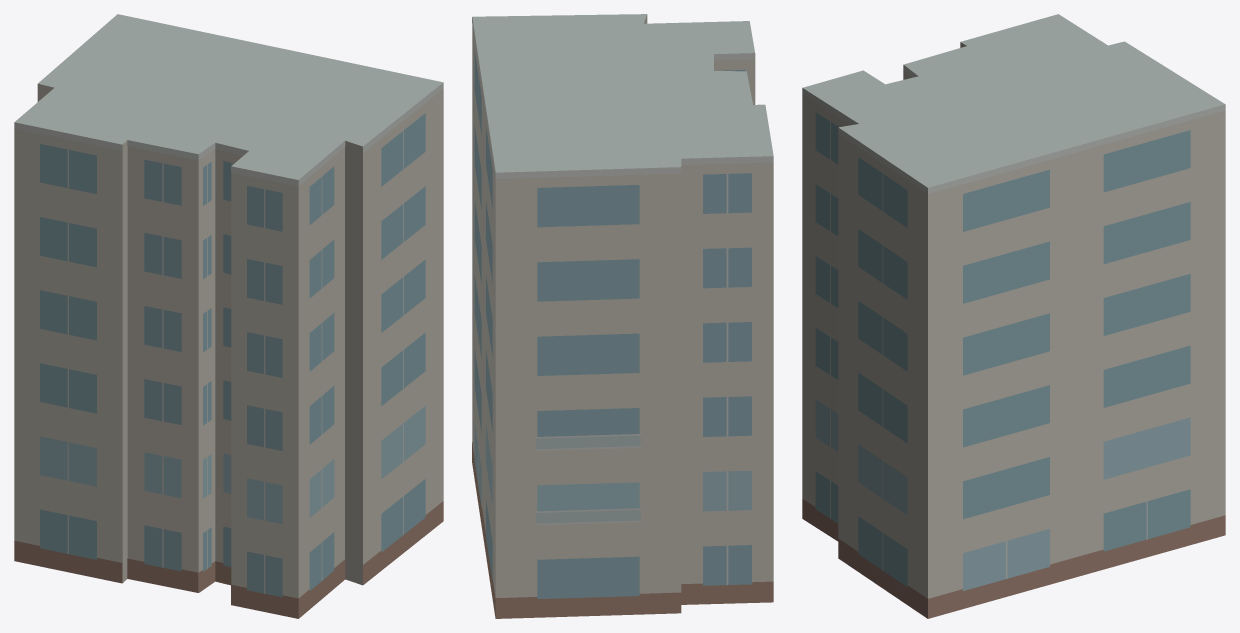
Rendered from survey-upis-32960334.glb.
The picture shows the model from 3 angles, left to right: view 1: azimuth 30°, elevation 25°; view 2: azimuth 150°, elevation 25°; view 3: azimuth 270°, elevation 25°; orthographic projection. The views are drawn at different scales.
Parts seen in each view (by area): view 1: survey-upis-32960334.tmp; view 2: survey-upis-32960334.tmp; view 3: survey-upis-32960334.tmp.
Boxes of the visible parts, <box> form: survey-upis-32960334.tmp: <box>14,14,443,618</box>; survey-upis-32960334.tmp: <box>472,14,773,618</box>; survey-upis-32960334.tmp: <box>802,14,1225,618</box>.
Size of the model in its own units: 14.72 by 17 by 15.13.
